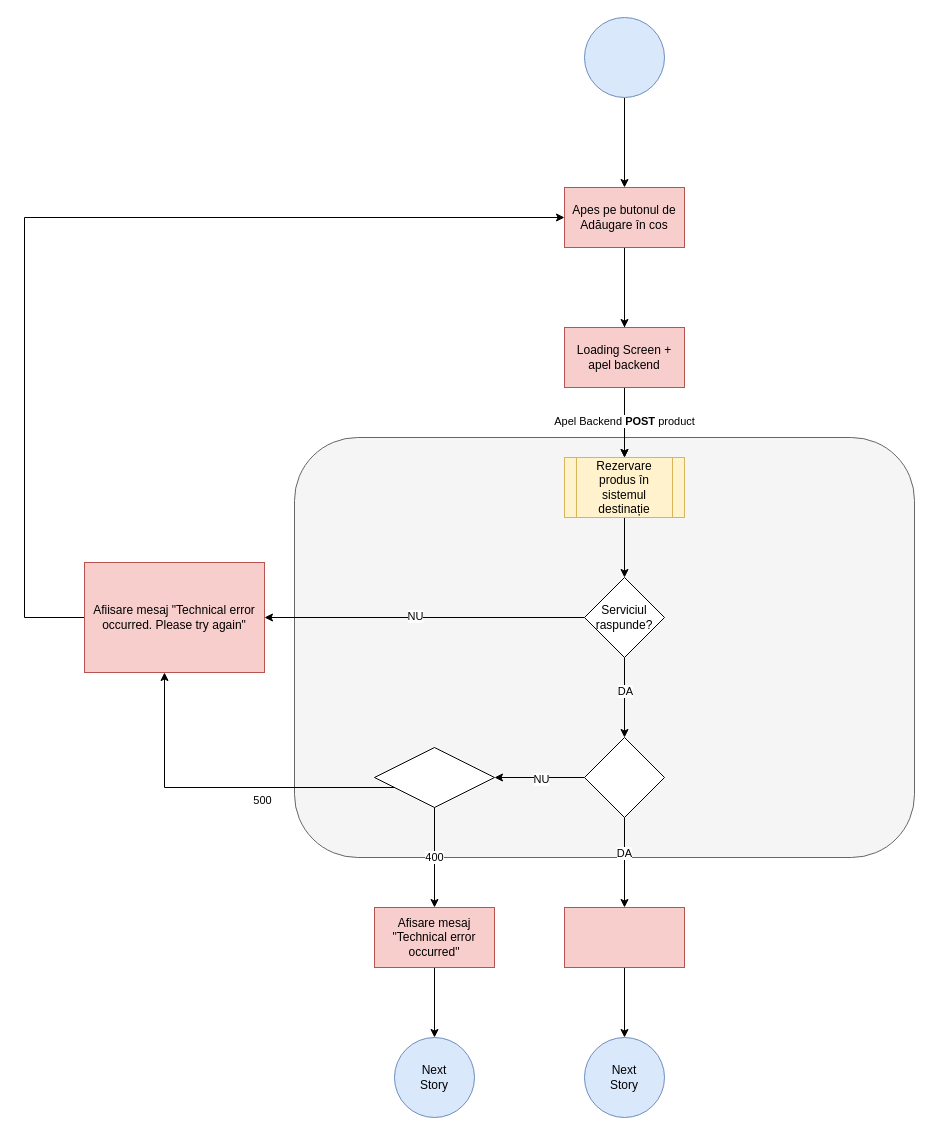
Image size: 932x1135. Some labels were removed from this diagram. Here are the shapes that lost their labels. From the top down, the centre of each, then its label:
the point at 624,57: START
the point at 434,777: 400 or 500
the point at 624,777: Succes?
the point at 624,937: Doreste sa continue sau redirecționare cos
